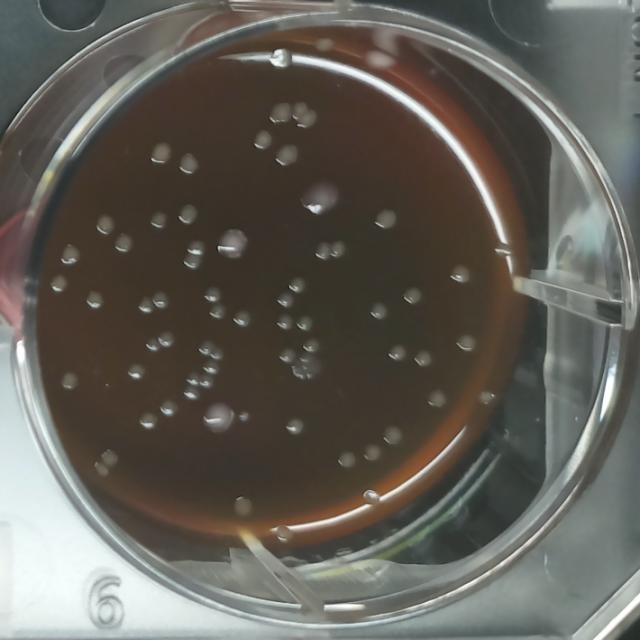Bacillus: (298, 172, 344, 220), (215, 224, 251, 264), (201, 396, 234, 436)
Vagococcus: (147, 139, 175, 168), (273, 142, 302, 170), (56, 240, 84, 269), (446, 260, 474, 288), (372, 205, 399, 234), (176, 150, 203, 178), (176, 201, 202, 229), (250, 125, 275, 154), (111, 232, 138, 258), (92, 211, 117, 237), (83, 286, 108, 312), (57, 368, 82, 394), (230, 494, 255, 520), (379, 422, 405, 447), (400, 282, 425, 308), (424, 386, 448, 413), (453, 330, 478, 355), (385, 341, 410, 366), (230, 305, 255, 330), (412, 346, 436, 371), (268, 100, 292, 124), (148, 209, 171, 233), (294, 107, 318, 130), (48, 272, 70, 296), (362, 440, 384, 464), (368, 300, 390, 324), (151, 287, 173, 310), (294, 310, 317, 332), (336, 447, 357, 471), (126, 360, 150, 381), (475, 386, 497, 408), (274, 310, 296, 332), (156, 328, 178, 349), (100, 447, 120, 470), (183, 249, 204, 270), (288, 273, 308, 295), (275, 289, 297, 309), (208, 301, 230, 321), (138, 410, 158, 432), (329, 239, 349, 260), (202, 284, 223, 304), (159, 398, 180, 418), (362, 487, 382, 508), (136, 295, 156, 315), (144, 334, 164, 354), (202, 356, 222, 376), (186, 237, 207, 256), (313, 239, 331, 261), (301, 336, 323, 354), (91, 460, 111, 479), (276, 345, 296, 364), (291, 100, 309, 120), (182, 384, 202, 402), (183, 368, 202, 386), (198, 338, 216, 356), (200, 372, 216, 390), (210, 346, 226, 361)
Vibrio: (290, 352, 326, 380)
